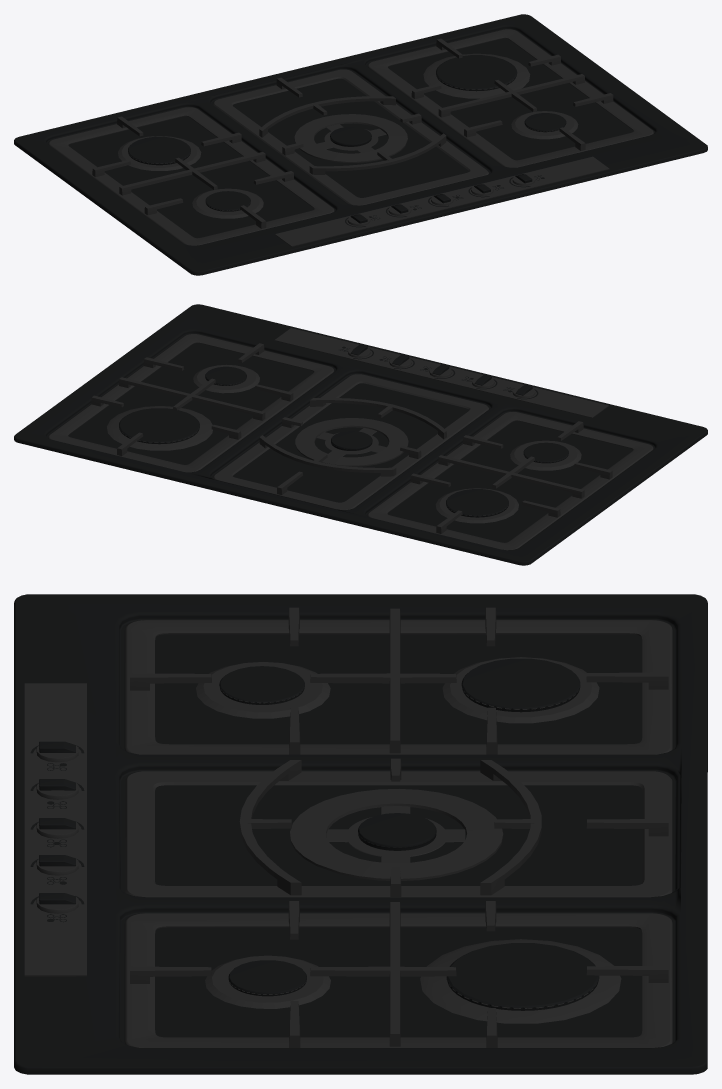
Rendered from Burners.FBX.
3 renders of one model, top to bottom at view 1: azimuth 30°, elevation 25°; view 2: azimuth 150°, elevation 25°; view 3: azimuth 270°, elevation 25°, orthographic. The views are drawn at different scales.
Parts seen in each view (by area): view 1: Burners001; view 2: Burners001; view 3: Burners001.
Boxes of the visible parts, x1=… form: Burners001: x1=14, y1=14, x2=707, y2=275; Burners001: x1=14, y1=304, x2=707, y2=565; Burners001: x1=14, y1=594, x2=707, y2=1074.
Size of the model in its own units: 2.78 by 0.0487 by 1.72.
Materials: 2 (2 with a texture image).
